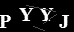J: (58, 14, 70, 29)
P: (1, 14, 12, 29)
Y: (17, 7, 34, 22), (39, 7, 54, 22)
